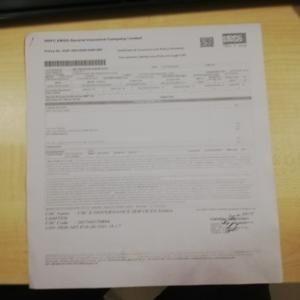image: (221, 30, 248, 43)
table: (43, 95, 256, 156), (42, 64, 255, 100)
text: (45, 156, 256, 202), (45, 204, 177, 230)
